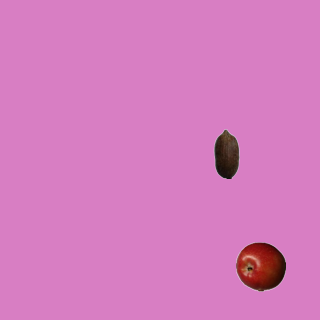Apple Braeburn: (235, 241, 285, 291)
Nut Pecan: (201, 128, 251, 178)
